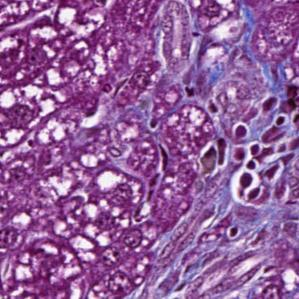inflammation: (223, 113, 279, 209)
